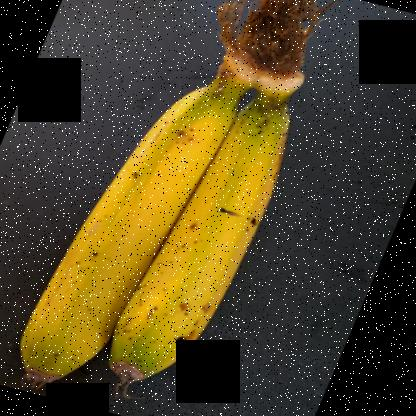freshripe: (0, 97, 221, 396)
ripe: (108, 115, 308, 387)
